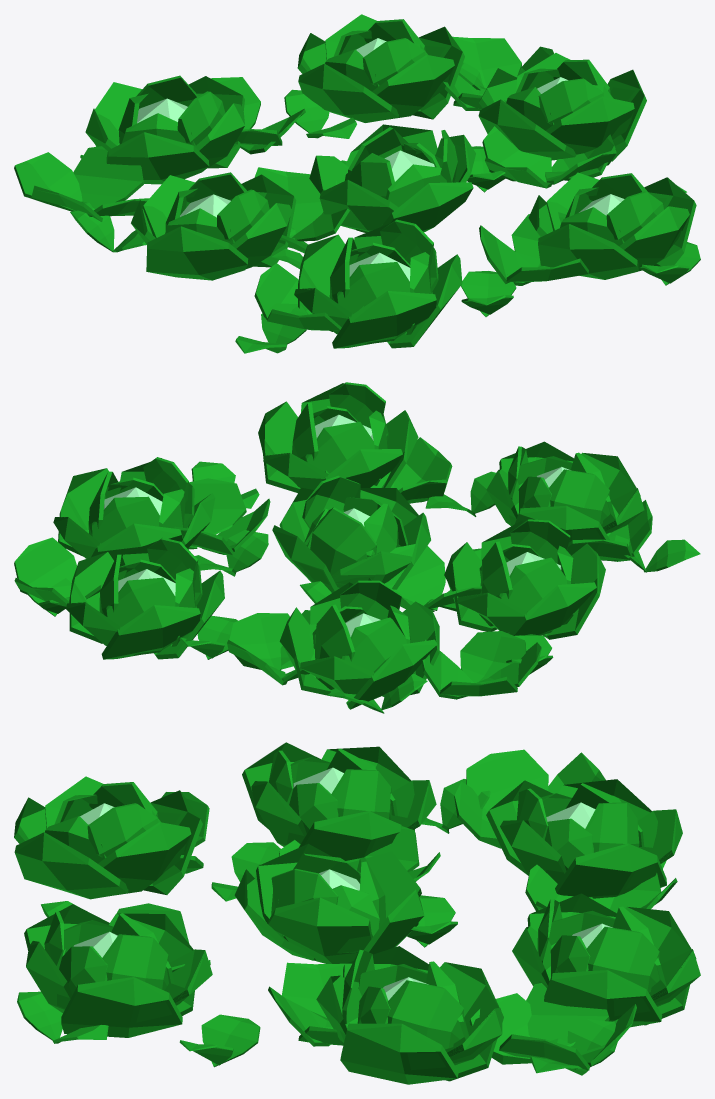
The model's file is Cabbage.fbx.
3 renders of one model, top to bottom at view 1: azimuth 30°, elevation 25°; view 2: azimuth 150°, elevation 25°; view 3: azimuth 270°, elevation 25°, orthographic. The views are drawn at different scales.
Parts seen in each view (by area): view 1: 3, 2, 1; view 2: 3, 2, 1; view 3: 3, 2, 1.
Boxes of the visible parts, bbox=[...] form: 3: bbox=[85, 14, 696, 348]; 2: bbox=[14, 36, 616, 330]; 1: bbox=[70, 62, 700, 353]; 3: bbox=[53, 382, 644, 709]; 2: bbox=[14, 437, 652, 699]; 1: bbox=[27, 461, 700, 713]; 3: bbox=[14, 742, 700, 1084]; 2: bbox=[116, 749, 677, 1070]; 1: bbox=[17, 779, 666, 1075].
Size of the model in its own units: 90.04 by 15.48 by 85.86.
